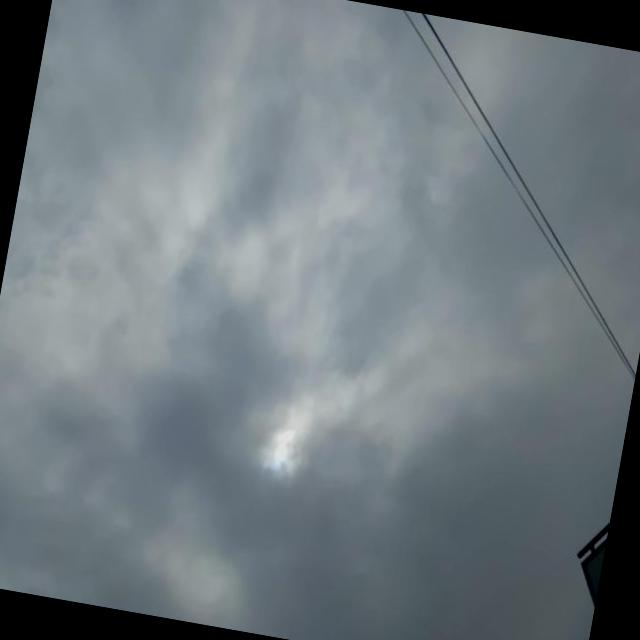nimbostratus: (0, 222, 600, 640), (21, 0, 401, 259), (537, 65, 640, 226)
